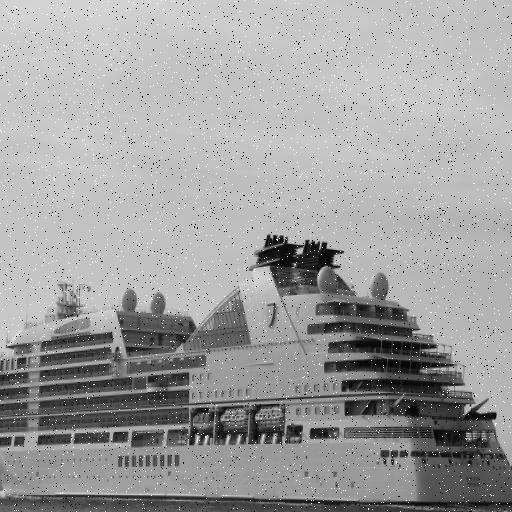cruises: (1, 231, 512, 512)
